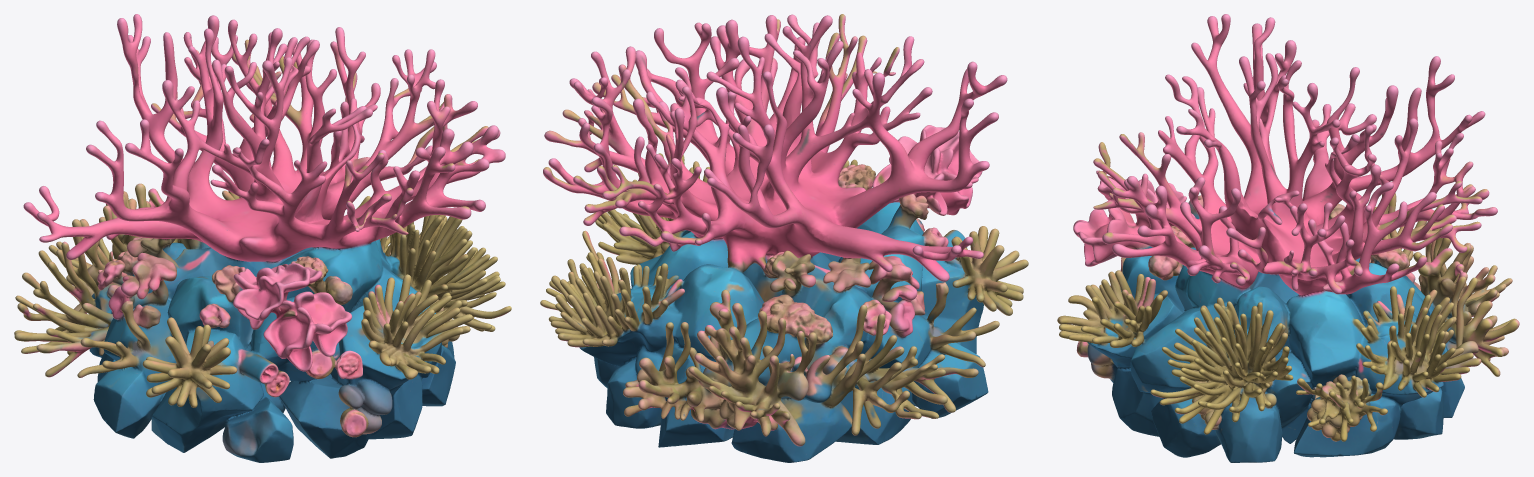
The model's file is costeiro_recife.glb.
3 views of the same model, side by side, from view 1: azimuth 30°, elevation 25°; view 2: azimuth 150°, elevation 25°; view 3: azimuth 270°, elevation 25° (orthographic). The views are drawn at different scales.
Bounding box in the file's own units: 1.88 × 1.52 × 1.89.
1 material, 1 textured.
